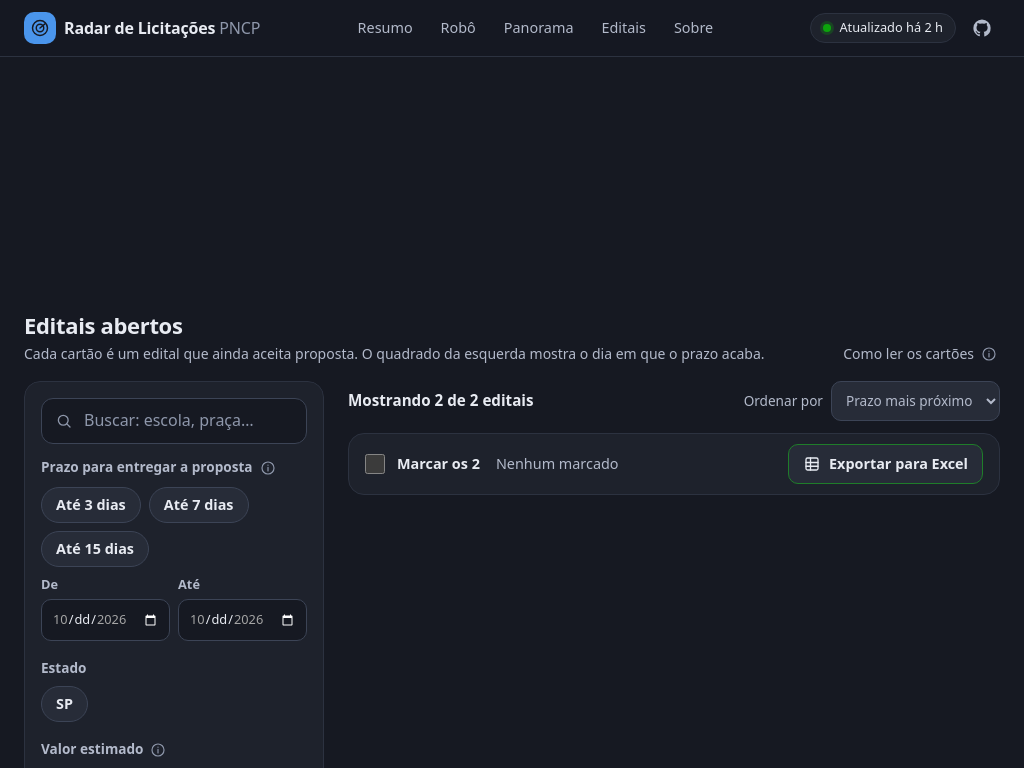
Test: App › filtra pela busca e volta ao normal ao limpar
(page scrolled)
Type "ESCOLA" into the search field labelled "Buscar". click: (174, 421)
box: [41,398,307,444]
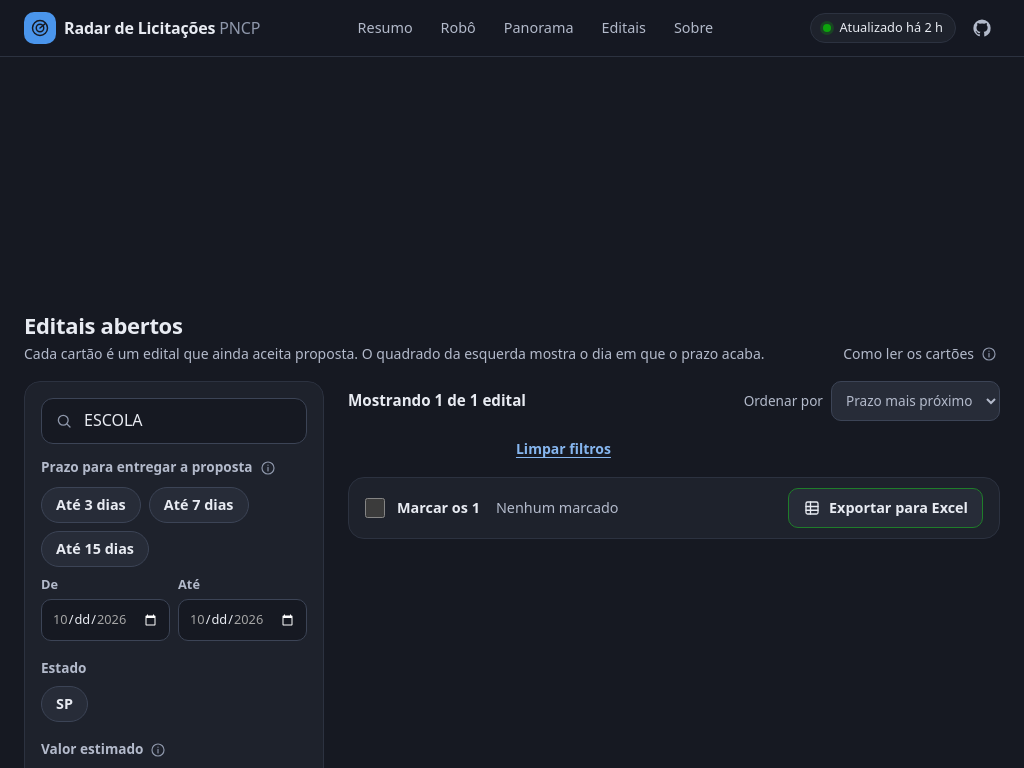
Check: the text "Pavimentação de ruas" is not shown
Check: the text "Mostrando 1 de 1 edital" is shown, box [348,389,526,413]
Replace the text in the search field named "Buscar" with "zzz". click: (174, 421)
box: [41,398,307,444]
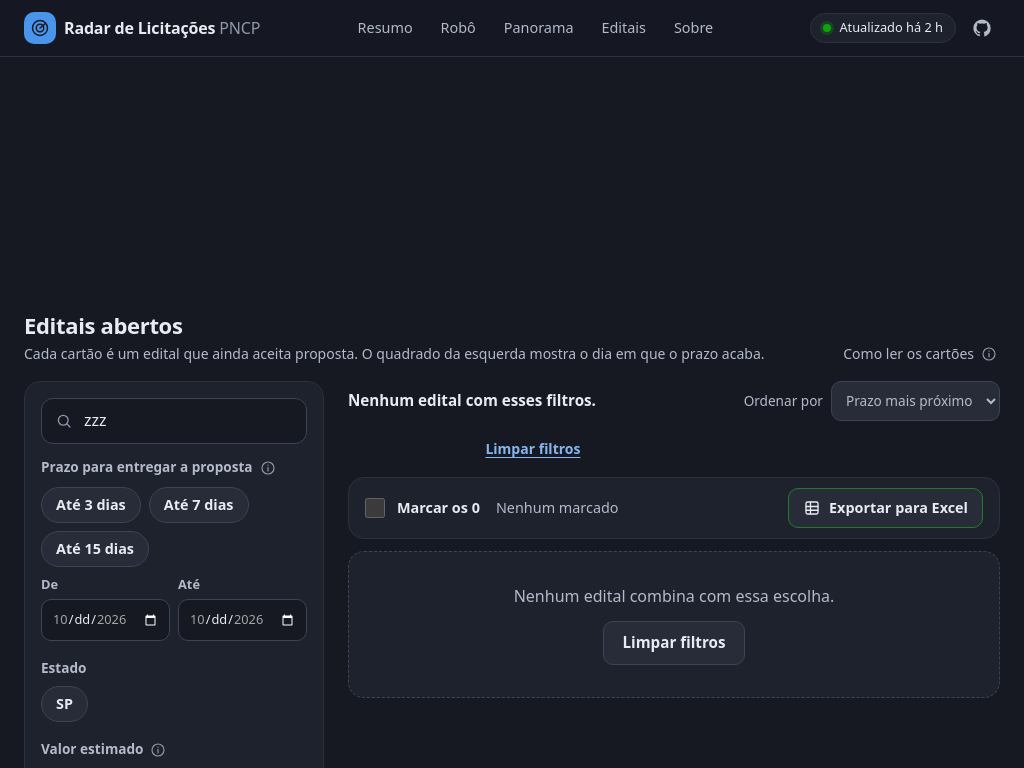
Check: the text "Nenhum edital com esses filtros." is shown, box [348,389,596,413]
Click the 1st button "Limpar filtros". click: (533, 449)
box: [481,433,584,465]
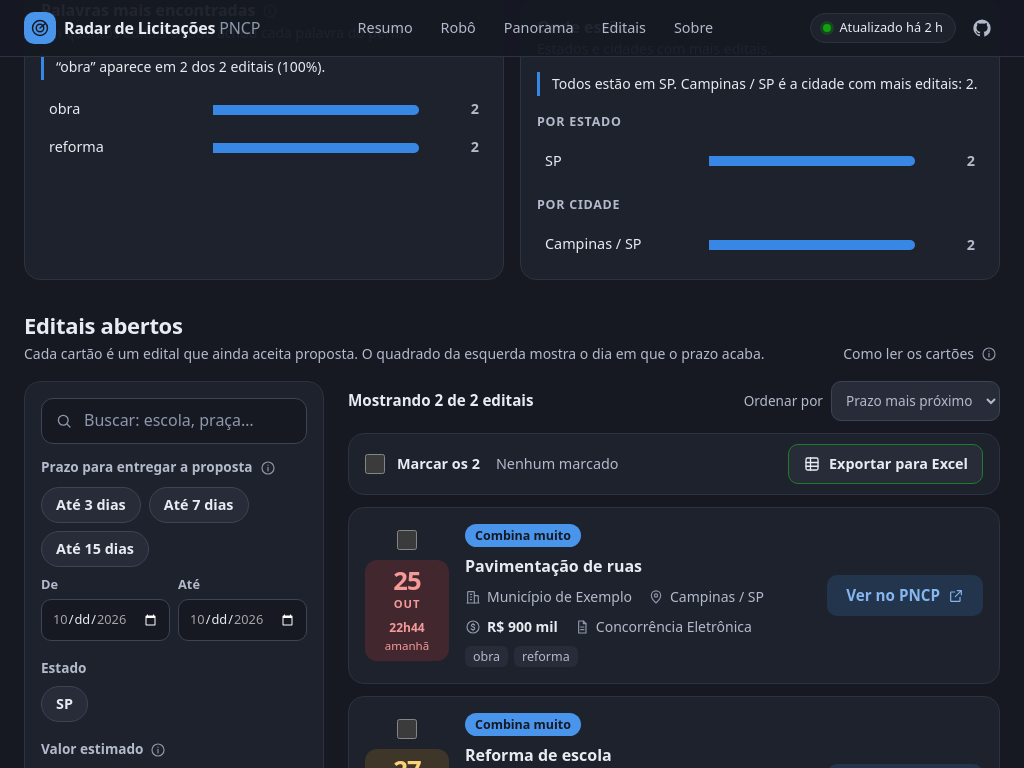
Check: the text "Pavimentação de ruas" is shown, box [465,555,642,577]
Check: the text "Reforma de escola" is shown, box [465,744,612,766]
Check: the search field labelled "Buscar" is empty, box [41,398,307,444]
